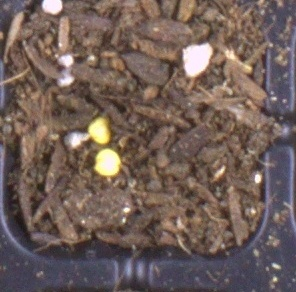chilli seed: (93, 148, 120, 176), (86, 117, 111, 145)
